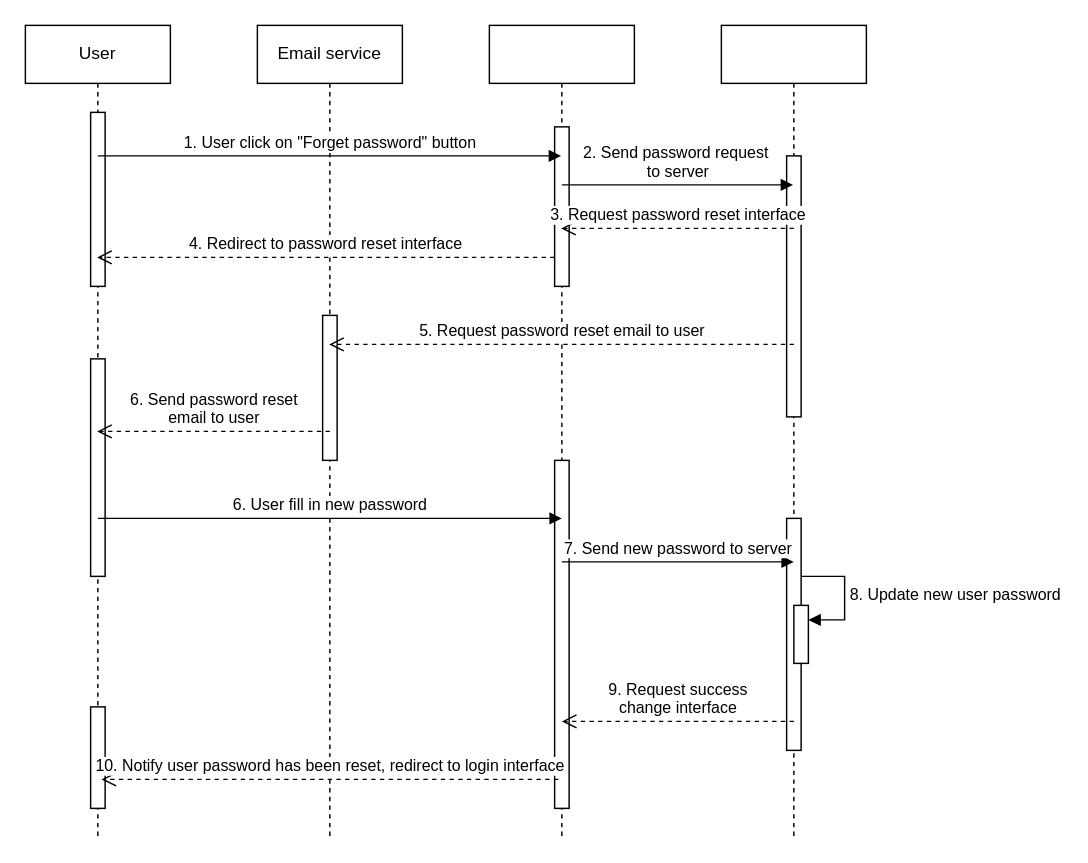
The diagram is 1088 pixels wide and 863 high, and some of its shapes have lost their labels. Each missing label, with the centre of its shape:
"Library Server" goes at [793,430].
"Library UI" goes at [561,430].
